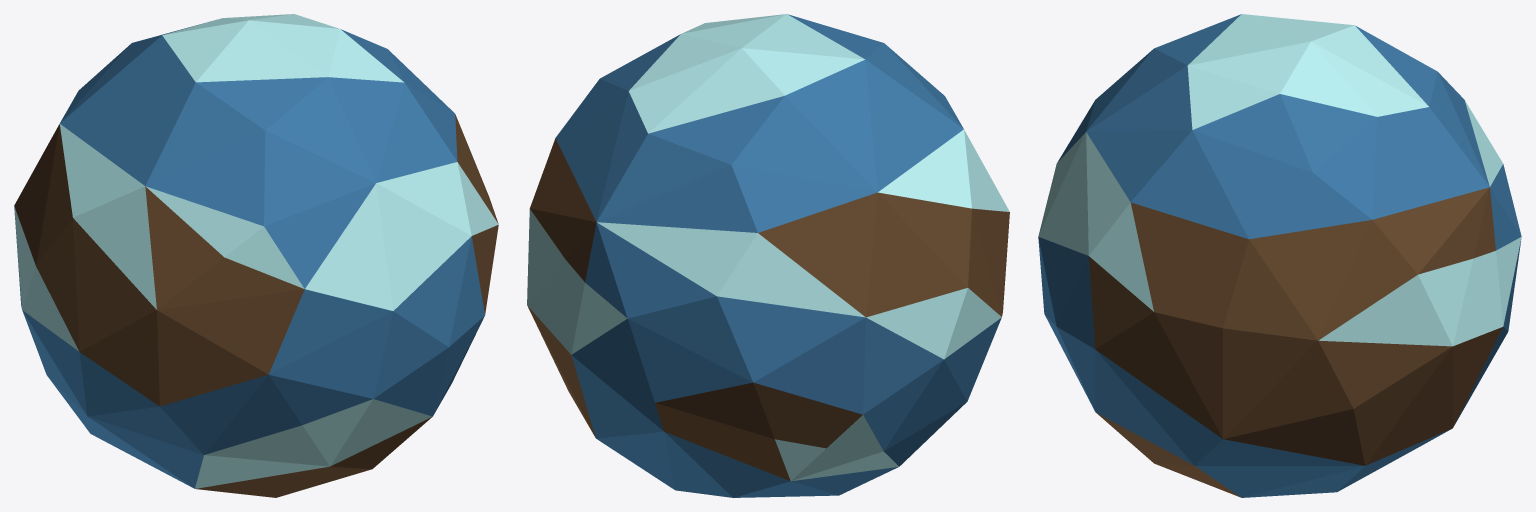
Rendered from space_planet-sea.fbx.
3 views of the same model, side by side, from view 1: azimuth 30°, elevation 25°; view 2: azimuth 150°, elevation 25°; view 3: azimuth 270°, elevation 25° (orthographic).
Parts seen in each view (by area): view 1: space_planet_sea; view 2: space_planet_sea; view 3: space_planet_sea.
Part boxes in pixels (x1,y1,x2,y2): space_planet_sea: (14,14,498,497); space_planet_sea: (527,14,1009,497); space_planet_sea: (1038,14,1521,497).
Size of the model in its own units: 200 by 200 by 200.
